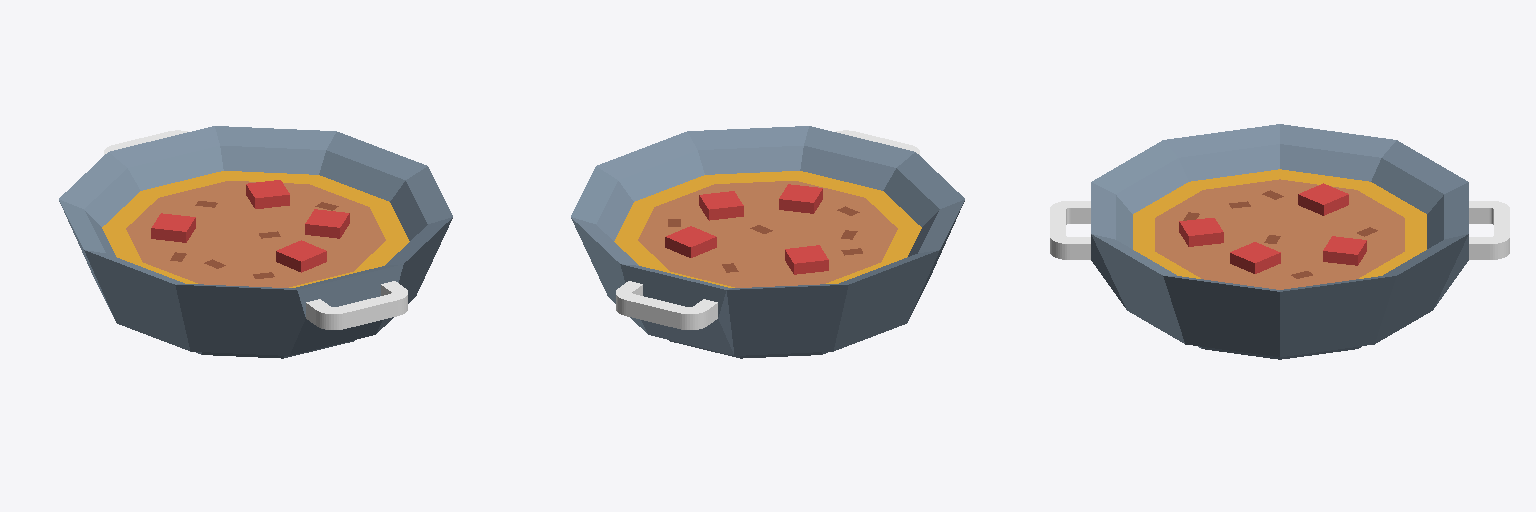
File: panStew.obj
The picture shows the model from 3 angles: view 1: azimuth 30°, elevation 25°; view 2: azimuth 150°, elevation 25°; view 3: azimuth 270°, elevation 25°; orthographic projection.
Parts seen in each view (by area): view 1: panStew; view 2: panStew; view 3: panStew.
Part boxes in pixels (bbox=[...]): panStew: bbox=[59, 126, 452, 358]; panStew: bbox=[571, 126, 964, 358]; panStew: bbox=[1050, 124, 1509, 359].
Bounding box in the file's own units: 0.6574 × 0.1753 × 0.7621.